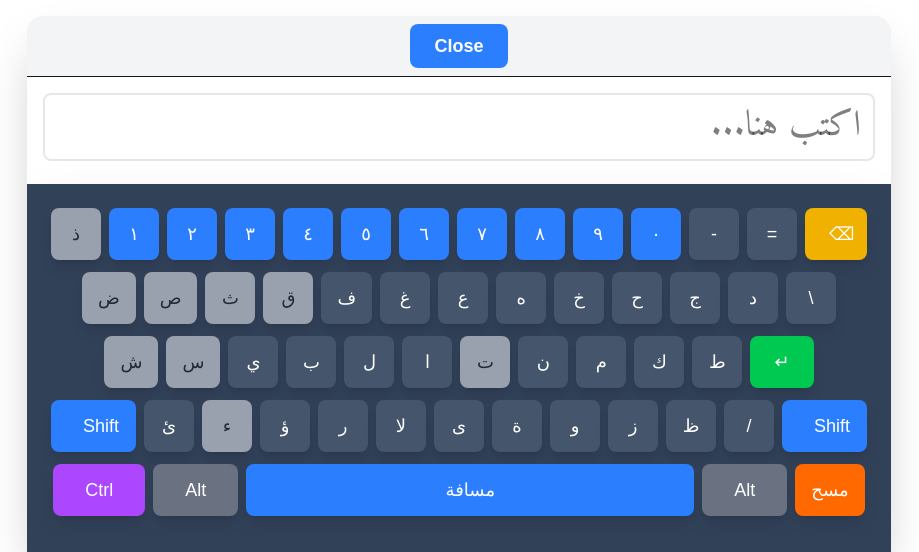
Test case: ArabicKeyboard Component › Key Functionality › should insert text when clicking letter keys
What coordinates should you click on to do the following:
click the button "ا"
I would click on:
 (427, 362)
Its box is x1=402 y1=336 x2=452 y2=388.
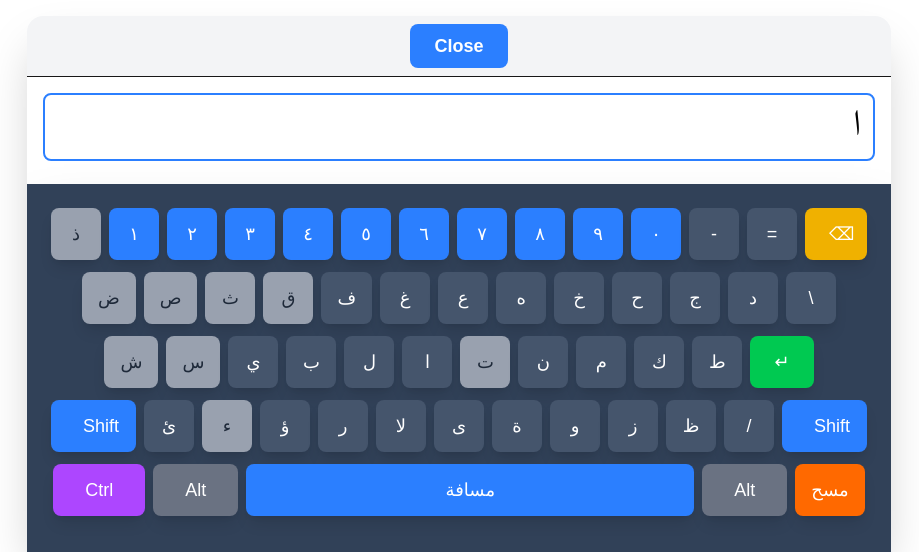
Check: the text box with placeholder "اكتب هنا..." holds "ا", box x1=43 y1=93 x2=875 y2=161
